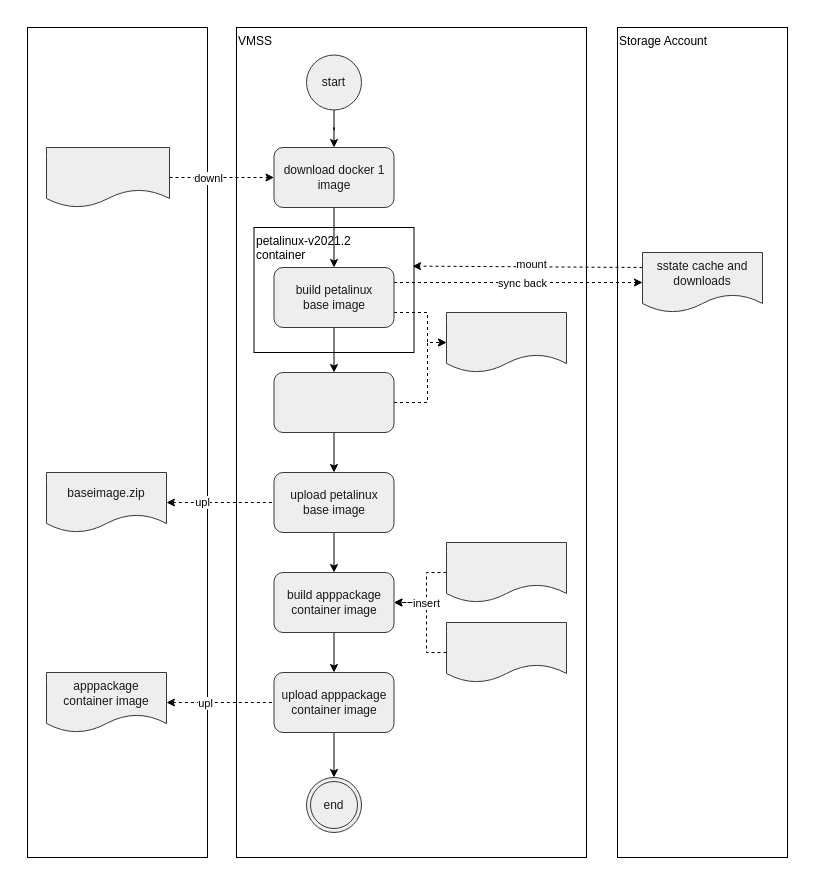
The diagram is 814 pixels wide and 884 high, and some of its shapes have lost their labels. Each missing label, with the box of its shape:
Artifactory: (26, 26, 208, 858)
base image: (446, 312, 566, 372)
build boot.vfat: (273, 372, 394, 432)
petalinux project: (446, 542, 566, 602)
petalinux sdk: (446, 622, 566, 682)
petalinux-v2021.2 container image: (46, 146, 170, 208)
